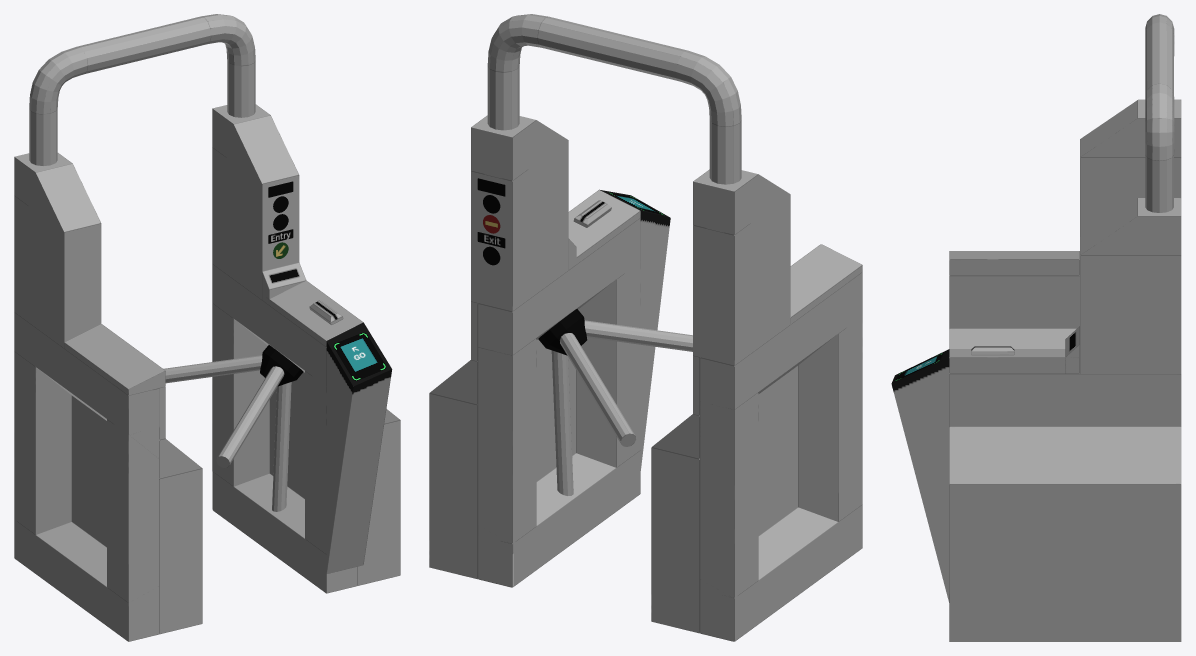
File: nyc_subway_fare_gate_1_entrance_open.obj
3 views of the same model, side by side, from view 1: azimuth 30°, elevation 25°; view 2: azimuth 150°, elevation 25°; view 3: azimuth 270°, elevation 25° (orthographic). The views are drawn at different scales.
Visible parts, largest first — view 1: left, right, cube, top, turnstile; view 2: left, right, top, turnstile, cube; view 3: right, left, cube, top.
Part boxes in pixels (x1,y1,x2,y2): left: (14, 153, 202, 641); right: (212, 104, 400, 593); cube: (326, 322, 392, 573); top: (29, 14, 255, 165); turnstile: (163, 345, 303, 511); left: (651, 169, 862, 641); right: (429, 115, 640, 587); top: (487, 14, 741, 184); turnstile: (538, 309, 692, 495); cube: (599, 189, 670, 470); right: (949, 198, 1181, 641); left: (949, 99, 1181, 348); cube: (891, 349, 949, 602); top: (1145, 14, 1174, 212).
Size of the model in its own units: 1.38 by 2.44 by 1.25.
Materials: 1 (1 with a texture image).
